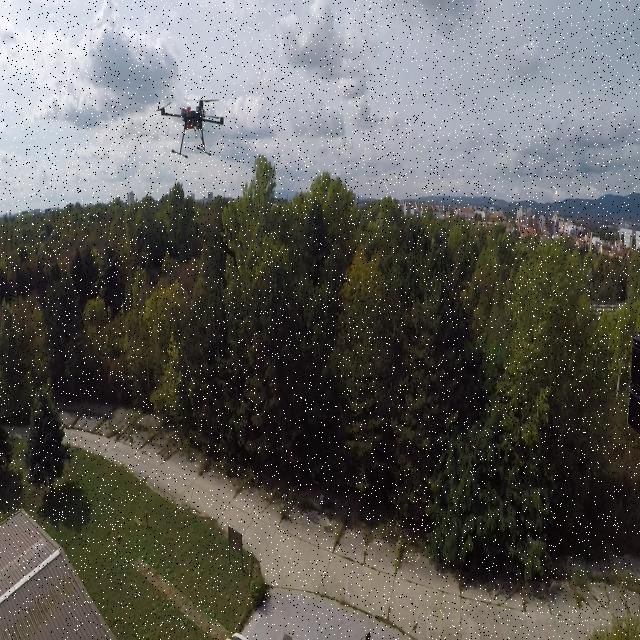UAV: (153, 92, 239, 164)
